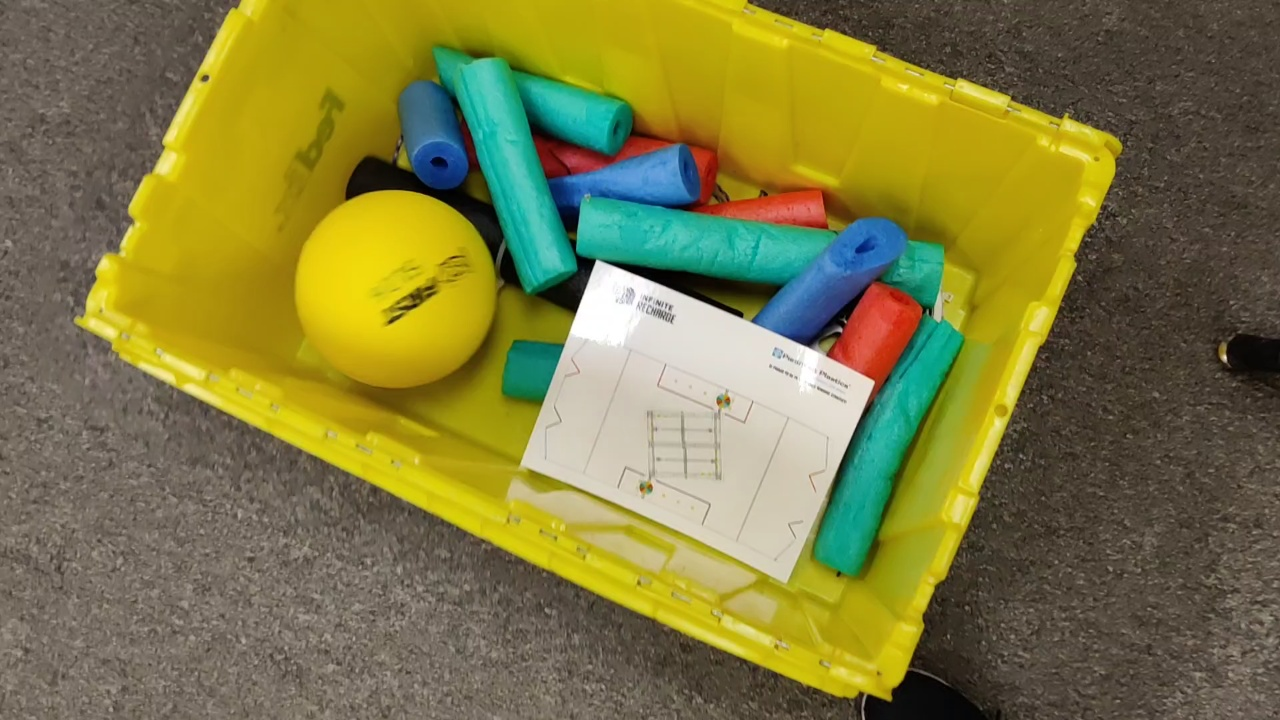Ball: (294, 193, 496, 383)
